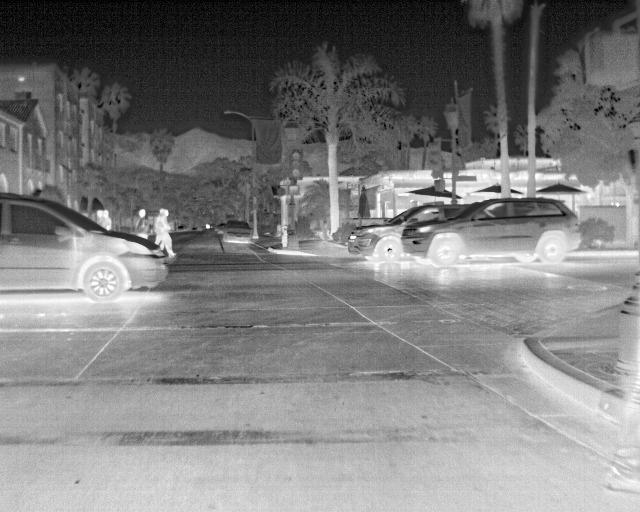bicycle: (0, 191, 165, 299), (401, 196, 581, 267), (346, 202, 475, 265), (220, 218, 254, 247)
empty: (156, 208, 177, 259), (131, 207, 149, 245), (101, 207, 113, 231), (93, 207, 103, 226)
